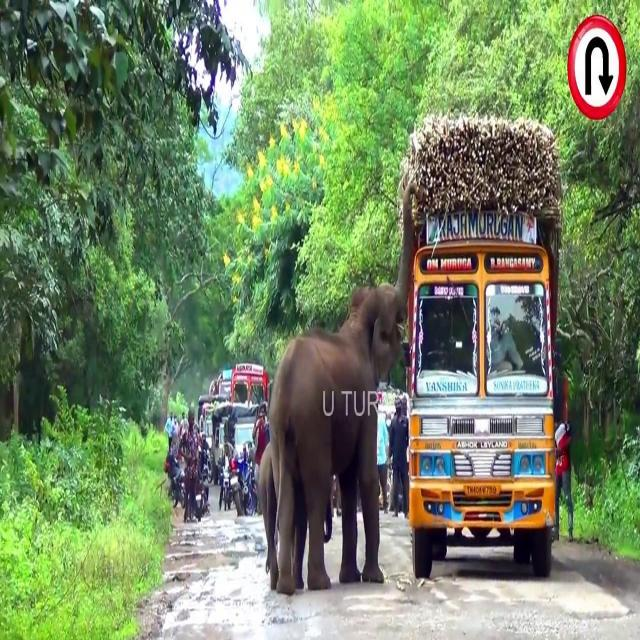Elephant: (266, 177, 418, 597)
